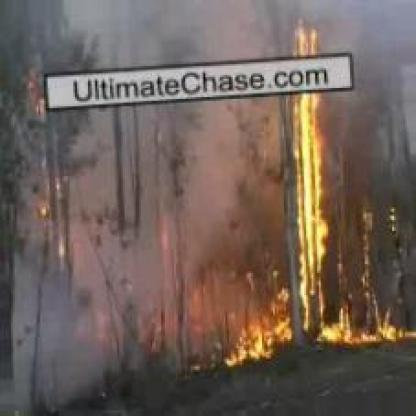fire: (260, 13, 338, 346), (219, 280, 412, 364)
